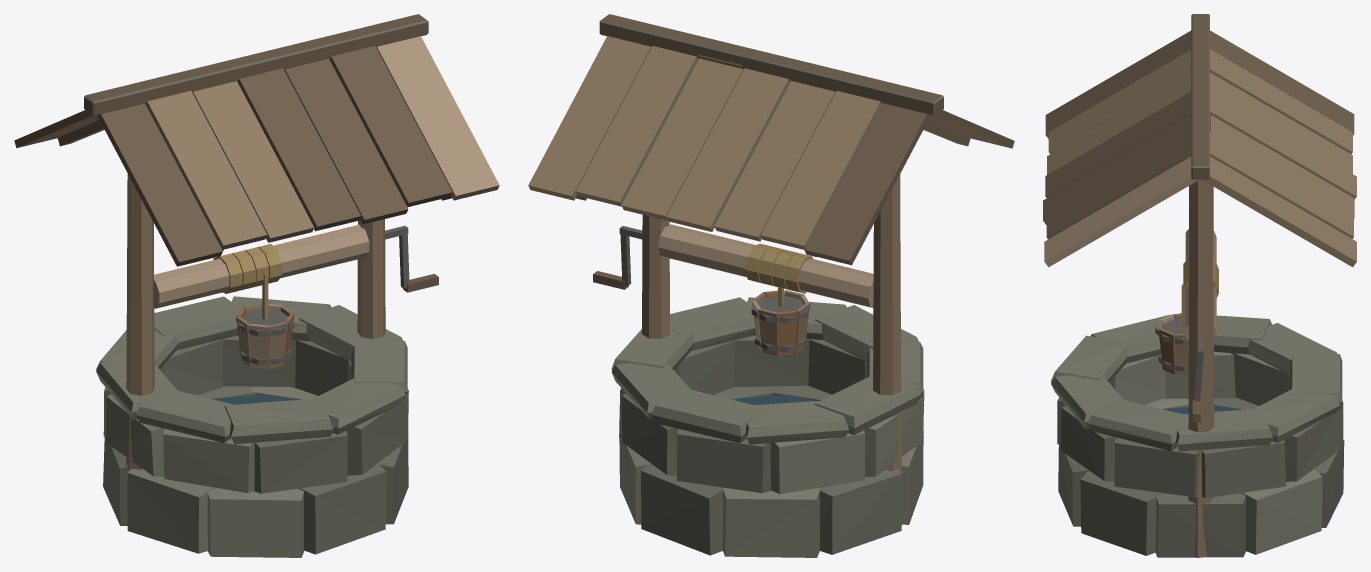
Rendered from well.glb.
3 renders of one model, left to right at view 1: azimuth 30°, elevation 25°; view 2: azimuth 150°, elevation 25°; view 3: azimuth 270°, elevation 25°, orthographic. The views are drawn at different scales.
Visible parts, largest first — view 1: Well; view 2: Well; view 3: Well.
Boxes of the visible parts, x1,y1,x2,y2 form: Well: (14, 14, 499, 557); Well: (528, 14, 1014, 557); Well: (1043, 14, 1356, 557).
Size of the model in its own units: 1.98 by 2.39 by 1.66.
